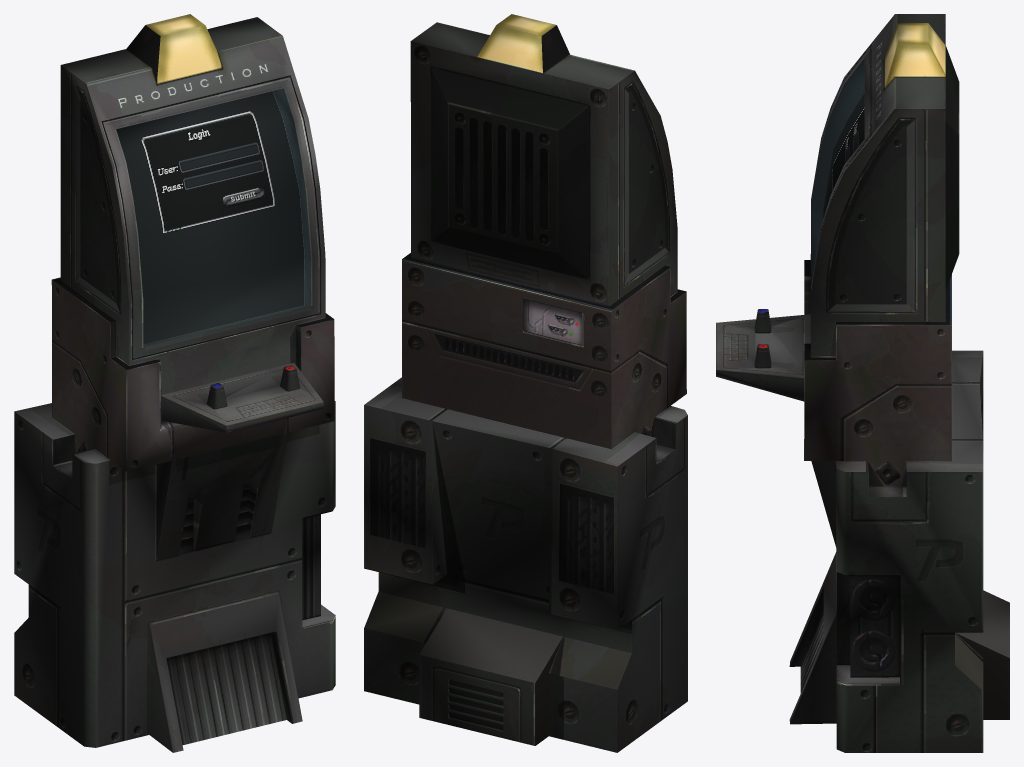
The model's file is productionterminal.glb.
The picture shows the model from 3 angles, left to right: view 1: azimuth 30°, elevation 25°; view 2: azimuth 150°, elevation 25°; view 3: azimuth 270°, elevation 25°; orthographic projection.
Parts seen in each view (by area): view 1: Box01; view 2: Box01; view 3: Box01.
Part boxes in pixels (x1,y1,x2,y2): Box01: [14, 14, 335, 752]; Box01: [364, 14, 687, 752]; Box01: [716, 14, 1009, 752].
Size of the model in its own units: 39.28 by 99.52 by 40.21.
1 material, 1 textured.
